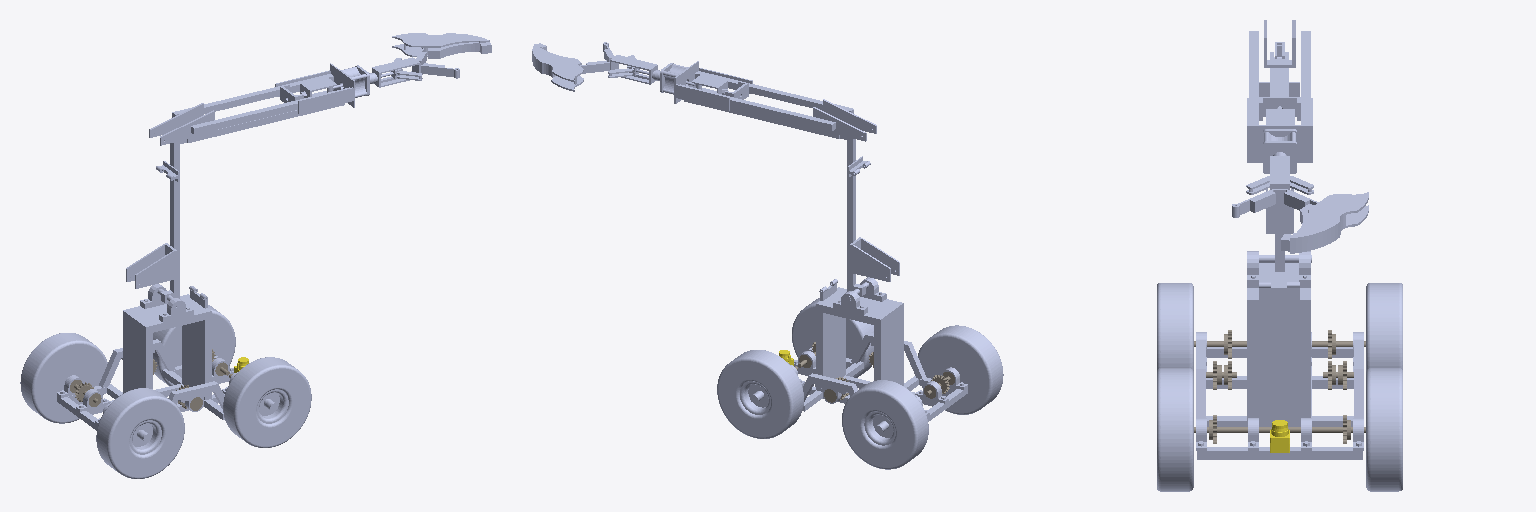
--- What the picture shows (computed from the rendered views, not written in the file) ---
3 views of the same robot in one strip: view 1: azimuth 30°, elevation 25°; view 2: azimuth 150°, elevation 25°; view 3: azimuth 270°, elevation 25° (orthographic).
Robot: Assem_fnl — 20 links, 19 joints (11 revolute, 1 prismatic, 7 fixed); root link base_link; default pose: all joints at 0.
Visible links, largest first — view 1: motorkooper_link, link_t2_2, link_t1_2, link_t2_1, struct_over_dual_link, base_link, rod_wth_cylin_link, dual_redrod_link, link_t1_1, claw_2_link, sub_claw_part_1_link, claw_part_2_2_link; view 2: motorkooper_link, link_t2_1, link_t1_1, link_t2_2, struct_over_dual_link, base_link, rod_wth_cylin_link, dual_redrod_link, link_t1_2, claw_2_link, sub_claw_part_1_link, claw_part_2_2_link; view 3: motorkooper_link, base_link, struct_over_dual_link, link_t1_2, link_t1_1, link_t2_1, link_t2_2, claw_2_link, rod_wth_cylin_link, sub_claw_part_1_link, dual_redrod_link, claw_part_2_2_link (+1 smaller).
Boxes of the visible links, <box> form: motorkooper_link: <box>123,284,211,399</box>; link_t2_2: <box>96,388,184,478</box>; link_t1_2: <box>223,357,311,447</box>; link_t2_1: <box>20,333,107,423</box>; struct_over_dual_link: <box>172,63,376,134</box>; base_link: <box>57,339,237,430</box>; rod_wth_cylin_link: <box>126,140,186,307</box>; dual_redrod_link: <box>149,103,344,145</box>; link_t1_1: <box>153,305,235,385</box>; claw_2_link: <box>392,33,491,58</box>; sub_claw_part_1_link: <box>372,48,459,87</box>; claw_part_2_2_link: <box>300,58,422,97</box>; motorkooper_link: <box>816,277,903,391</box>; link_t2_1: <box>842,380,928,469</box>; link_t1_1: <box>717,350,803,438</box>; link_t2_2: <box>918,325,1003,414</box>; struct_over_dual_link: <box>653,61,853,130</box>; base_link: <box>790,332,967,421</box>; rod_wth_cylin_link: <box>840,135,899,300</box>; dual_redrod_link: <box>684,99,876,141</box>; link_t1_2: <box>792,298,873,377</box>; claw_2_link: <box>532,43,583,91</box>; sub_claw_part_1_link: <box>580,42,657,84</box>; claw_part_2_2_link: <box>608,55,727,94</box>; motorkooper_link: <box>1247,251,1310,421</box>; base_link: <box>1196,332,1363,459</box>; struct_over_dual_link: <box>1247,31,1312,173</box>; link_t1_2: <box>1157,368,1193,491</box>; link_t1_1: <box>1366,368,1402,491</box>; link_t2_1: <box>1366,283,1402,370</box>; link_t2_2: <box>1157,283,1193,370</box>; claw_2_link: <box>1281,192,1368,253</box>; rod_wth_cylin_link: <box>1259,42,1311,271</box>; sub_claw_part_1_link: <box>1232,156,1318,217</box>; dual_redrod_link: <box>1264,20,1295,108</box>; claw_part_2_2_link: <box>1246,109,1313,194</box>.
Size in the robot's own frame: 1.67 by 0.6001 by 1.17 metres.
Meshes: 20 distinct files referenced, 19 mesh visuals loaded (19 binary STL); not drawn: 1 (reference not matched to a file when rendering).

robot.urdf — Assem_fnl:
<?xml version="1.0" encoding="utf-8"?>
<!-- This URDF was automatically created by SolidWorks to URDF Exporter! Originally created by Stephen Brawner ([email redacted])
     Commit Version: 1.6.0-1-g15f4949  Build Version: 1.6.7594.29634
     For more information, please see http://wiki.ros.org/sw_urdf_exporter -->
<robot
  name="Assem_fnl">

  <gazebo>
    <plugin name="gazebo_ros_control" filename="libgazebo_ros_control.so">
      <robotNamespace></robotNamespace>
      <robotSimType>gazebo_ros_control/DefaultRobotHWSim</robotSimType>
      <legacyModeNS>true</legacyModeNS>
    </plugin>
  </gazebo>
<!--
  <gazebo>
    <plugin name="MimicJointPlugin" filename="libroboticsgroup_gazebo_mimic_joint_plugin.so">
      <joint>claw_part_3_joint</joint>
      <mimicJoint>claw_1_joint</mimicJoint>
    </plugin>
  </gazebo>
-->
<!--
 <gazebo>
     <plugin name="Myrobot_ClosedLoopPlugin" filename="libpegasus_gazebo_closed_loop_plugin.so">
         <joint>plate_gripper_joint</joint>
         <child>claw_1_link</child>
         <parent>claw_part_3_link</parent>
         <position>0.0 0.0 0.0</position>
         <rotation>0.00 -0.00 0.00</rotation>
     </plugin>
 </gazebo>
-->

  <link
    name="base_link">
    <inertial>
      <origin
        xyz="0.000245228555021293 -0.000485601868001451 0.0326909146616174"
        rpy="0 0 0" />
      <mass
        value="50.6467934"/>
      <inertia
        ixx="0.487436962309936"
        ixy="-1.41855005569046E-05"
        ixz="0.000115722726747853"
        iyy="0.884389812574198"
        iyz="-0.000233043409626158"
        izz="1.30737819360333" />
    </inertial>
    <visual>
      <origin
        xyz="0 0 0"
        rpy="0 0 0" />
      <geometry>
        <mesh
          filename="package://Assem_fnl/meshes/visual/base_link.STL" />
      </geometry>
      <material
        name="">
        <color
          rgba="0.792156862745098 0.819607843137255 0.933333333333333 1" />
      </material>
    </visual>
    <collision>
      <origin
        xyz="0 0 0"
        rpy="0 0 0" />
      <geometry>
        <mesh
          filename="package://Assem_fnl/meshes/collision/base_link.stl" />
      </geometry>
    </collision>
  </link>
  <link
    name="link_sh1_1">
    <inertial>
      <origin
        xyz="3.60822483003176E-16 0.0266401832789713 2.77555756156289E-17"
        rpy="0 0 0" />
      <mass
        value="1.88910976344759" />
      <inertia
        ixx="0.00815057397058659"
        ixy="2.36548102133572E-17"
        ixz="0"
        iyy="0.00055983034329253"
        iyz="3.14474323677546E-18"
        izz="0.00815057397058659" />
    </inertial>
    <visual>
      <origin
        xyz="0 0 0"
        rpy="0 0 0" />
      <geometry>
        <mesh
          filename="package://Assem_fnl/meshes/visual/link_sh1_1.STL" />
      </geometry>
      <material
        name="">
        <color
          rgba="0.647058823529412 0.619607843137255 0.584313725490196 1" />
      </material>
    </visual>
    <collision>
      <origin
        xyz="0 0 0"
        rpy="0 0 0" />
      <geometry>
        <mesh
          filename="package://Assem_fnl/meshes/collision/link_sh1_1.stl" />
      </geometry>
    </collision>
  </link>
  <joint
    name="joint_sh1_1"
    type="revolute">
    <origin
      xyz="0.246 0.1631 0.053"
      rpy="0 0.61414 0" />
    <parent
      link="base_link" />
    <child
      link="link_sh1_1" />
    <axis
      xyz="0 1 0" />
    <limit
      lower="0"
      upper="6.283"
      effort="0"
      velocity="0" />
      <!-- forward +ve -->

  </joint>
  <link
    name="link_t1_1">
    <inertial>
      <origin
        xyz="0 -0.0437281587639727 3.46944695195361E-18"
        rpy="0 0 0" />
      <mass
        value="7" />
      <inertia
        ixx="0.90"
        ixy="0.97"
        ixz="0.78"
        iyx="0.97"
        iyy="2.19"
        iyz="0.42"
        izx="0.78"
        izy="0.42"
        izz="2.41" />
    </inertial>
    <visual>
      <origin
        xyz="0 0 0"
        rpy="0 0 0" />
      <geometry>
        <mesh
          filename="package://Assem_fnl/meshes/visual/link_t1_1.STL" />
      </geometry>
      <material
        name="">
        <color
          rgba="0.792156862745098 0.819607843137255 0.933333333333333 1" />
      </material>
    </visual>
    <collision>
      <origin
        xyz="0 0 0"
        rpy="0 0 0" />
      <geometry>
        <mesh
          filename="package://Assem_fnl/meshes/collision/link_t1_1.stl" />
      </geometry>
    </collision>
  </link>
  <joint
    name="joint_t1_1"
    type="fixed">
    <origin
      xyz="0 0.047 0"
      rpy="3.1416 -1.3284 0" />
    <parent
      link="link_sh1_1" />
    <child
      link="link_t1_1" />
    <axis
      xyz="0 0 0" />
    <limit
      lower="0"
      upper="0"
      effort="0"
      velocity="0" />
    <dynamics
      friction= "1000" />
  </joint>
  <link
    name="link_sh1_2">
    <inertial>
      <origin
        xyz="3.81639164714898E-16 0.0266401832789712 0"
        rpy="0 0 0" />
      <mass
        value="1.88910976344759" />
      <inertia
        ixx="0.00815057397058659"
        ixy="2.3314941049737E-17"
        ixz="0"
        iyy="0.00055983034329253"
        iyz="2.99631939640779E-18"
        izz="0.00815057397058659" />
    </inertial>
    <visual>
      <origin
        xyz="0 0 0"
        rpy="0 0 0" />
      <geometry>
        <mesh
          filename="package://Assem_fnl/meshes/visual/link_sh1_2.STL" />
      </geometry>
      <material
        name="">
        <color
          rgba="0.647058823529412 0.619607843137255 0.584313725490196 1" />
      </material>
    </visual>
    <collision>
      <origin
        xyz="0 0 0"
        rpy="0 0 0" />
      <geometry>
        <mesh
          filename="package://Assem_fnl/meshes/collision/link_sh1_2.stl" />
      </geometry>
    </collision>
  </link>
  <joint
    name="joint_sh1_2"
    type="revolute">
    <origin
      xyz="0.246 -0.163 0.053"
      rpy="0 -0.37309 3.1416" />
    <parent
      link="base_link" />
    <child
      link="link_sh1_2" />
    <axis
      xyz="0 1 0" />
    <limit
      lower="0"
      upper="6.283"
      effort="10"
      velocity="2" />
      <!--forward at negative -->
  </joint>
  <link
    name="link_t1_2">
    <inertial>
      <origin
        xyz="-6.93889390390723E-18 -0.0437281587639726 0"
        rpy="0 0 0" />
      <mass
        value="7" />
      <inertia
        ixx="1.01"
        ixy="0.01"
        ixz="0"
        iyx="0.01"
        iyy="0.21"
        iyz="0.00"
        izx="0"
        izy="0.00"
        izz="1.15" />
    </inertial>
    <visual>
      <origin
        xyz="0 0 0"
        rpy="0 0 0" />
      <geometry>
        <mesh
          filename="package://Assem_fnl/meshes/visual/link_t1_2.STL" />
      </geometry>
      <material
        name="">
        <color
          rgba="0.792156862745098 0.819607843137255 0.933333333333333 1" />
      </material>
    </visual>
    <collision>
      <origin
        xyz="0 0 0"
        rpy="0 0 0" />
      <geometry>
        <mesh
          filename="package://Assem_fnl/meshes/collision/link_t1_2.stl" />
      </geometry>
    </collision>
  </link>
  <joint
    name="joint_t1_2"
    type="fixed">
    <origin
      xyz="0 0.047 0"
      rpy="0 0.6334 3.1416" />
    <parent
      link="link_sh1_2" />
    <child
      link="link_t1_2" />
    <axis
      xyz="0 0 0" />
    <limit
      lower="0"
      upper="0"
      effort="0"
      velocity="0" />
    <dynamics
      friction ="1000" />
  </joint>
  <link
    name="link_sh2_1">
    <inertial>
      <origin
        xyz="4.44089209850063E-16 0.00429143099730334 -1.11022302462516E-16"
        rpy="0 0 0" />
      <mass
        value="1.91717027267991" />
      <inertia
        ixx="0.00832905389350432"
        ixy="-7.8383224326297E-19"
        ixz="0"
        iyy="0.00056061954511469"
        iyz="1.47358871394239E-19"
        izz="0.00832905389350432" />
    </inertial>
    <visual>
      <origin
        xyz="0 0 0"
        rpy="0 0 0" />
      <geometry>
        <mesh
          filename="package://Assem_fnl/meshes/visual/link_sh2_1.STL" />
      </geometry>
      <material
        name="">
        <color
          rgba="0.647058823529412 0.619607843137255 0.584313725490196 1" />
      </material>
    </visual>
    <collision>
      <origin
        xyz="0 0 0"
        rpy="0 0 0" />
      <geometry>
        <mesh
          filename="package://Assem_fnl/meshes/collision/link_sh2_1.stl" />
      </geometry>
    </collision>
  </link>
  <joint
    name="joint_sh2_1"
    type="revolute">
    <origin
      xyz="-0.246 0.127 0.053"
      rpy="3.1416 1.0385 3.1416" />
    <parent
      link="base_link" />
    <child
      link="link_sh2_1" />
    <axis
      xyz="0 1 0" />
    <limit
      lower="0"
      upper="6.283"
      effort="0"
      velocity="0" />

  </joint>
  <link
    name="link_t2_1">
    <inertial>
      <origin
        xyz="-1.11022302462516E-16 -0.0437281587639727 2.77555756156289E-17"
        rpy="0 0 0" />
      <mass
        value="7" />
      <inertia
        ixx="0.90"
        ixy="0.03"
        ixz="0.03"
        iyx="0.03"
        iyy="0.38"
        iyz="0.42"
        izx="0.03"
        izy="0.42"
        izz="0.60"  />
    </inertial>
    <visual>
      <origin
        xyz="0 0 0"
        rpy="0 0 0" />
      <geometry>
        <mesh
          filename="package://Assem_fnl/meshes/visual/link_t2_1.STL" />
      </geometry>
      <material
        name="">
        <color
          rgba="0.792156862745098 0.819607843137255 0.933333333333333 1" />
      </material>
    </visual>
    <collision>
      <origin
        xyz="0 0 0"
        rpy="0 0 0" />
      <geometry>
        <mesh
          filename="package://Assem_fnl/meshes/collision/link_t2_1.stl" />
      </geometry>
    </collision>
  </link>
  <joint
    name="joint_t2_1"
    type="fixed">
    <origin
      xyz="0 0.083 0"
      rpy="3.1416 -0.37818 0" />
    <parent
      link="link_sh2_1" />
    <child
      link="link_t2_1" />
    <axis
      xyz="0 0 0" />
    <limit
      lower="0"
      upper="0"
      effort="0"
      velocity="0" />
    <dynamics
      friction ="1000" />
  </joint>
  <link
    name="link_sh2_2">
    <inertial>
      <origin
        xyz="3.33066907387547E-16 0.00429143099730334 -5.55111512312578E-17"
        rpy="0 0 0" />
      <mass
        value="1.91717027267991" />
      <inertia
        ixx="0.00832905389350432"
        ixy="-1.02531408348597E-18"
        ixz="0"
        iyy="0.00056061954511469"
        iyz="-8.7774241875515E-22"
        izz="0.00832905389350432" />
    </inertial>
    <visual>
      <origin
        xyz="0 0 0"
        rpy="0 0 0" />
      <geometry>
        <mesh
          filename="package://Assem_fnl/meshes/visual/link_sh2_2.STL" />
      </geometry>
      <material
        name="">
        <color
          rgba="0.647058823529412 0.619607843137255 0.584313725490196 1" />
      </material>
    </visual>
    <collision>
      <origin
        xyz="0 0 0"
        rpy="0 0 0" />
      <geometry>
        <mesh
          filename="package://Assem_fnl/meshes/collision/link_sh2_2.stl" />
      </geometry>
    </collision>
  </link>
  <joint
    name="joint_sh2_2"
    type="revolute">
    <origin
      xyz="-0.246 -0.127 0.053"
      rpy="0 -0.080442 3.1416" />
    <parent
      link="base_link" />
    <child
      link="link_sh2_2" />
    <axis
      xyz="0 1 0" />
    <limit
      lower="0"
      upper="6.283"
      effort="0"
      velocity="0" />

  </joint>
  <link
    name="link_t2_2">
    <inertial>
      <origin
        xyz="-5.55111512312578E-17 -0.0437281587639727 -1.11022302462516E-16"
        rpy="0 0 0" />
      <mass
        value="7" />
      <inertia
        ixx="4.25"
        ixy="0.03"
        ixz="0.09"
        iyx="0.03"
        iyy="3.74"
        iyz="1.38"
        izx="0.09"
        izy="1.38"
        izz="0.60" />
    </inertial>
    <visual>
      <origin
        xyz="0 0 0"
        rpy="0 0 0" />
      <geometry>
        <mesh
          filename="package://Assem_fnl/meshes/visual/link_t2_2.STL" />
      </geometry>
      <material
        name="">
        <color
          rgba="0.792156862745098 0.819607843137255 0.933333333333333 1" />
      </material>
    </visual>
    <collision>
      <origin
        xyz="0 0 0"
        rpy="0 0 0" />
      <geometry>
        <mesh
          filename="package://Assem_fnl/meshes/collision/link_t2_2.stl" />
      </geometry>
    </collision>
  </link>
  <joint
    name="joint_t2_2"
    type="fixed">
    <origin
      xyz="0 0.083 0"
      rpy="0 -0.14131 3.1416" />
    <parent
      link="link_sh2_2" />
    <child
      link="link_t2_2" />
    <axis
      xyz="0 0 0" />
    <limit
      lower="0"
      upper="0"
      effort="0"
      velocity="0" />
    <dynamics
      friction ="1000" />

  </joint>
  <link
    name="link_Msh_1">
    <inertial>
      <origin
        xyz="-1.16573417585641E-15 -0.00188400148089063 -1.11022302462516E-16"
        rpy="0 0 0" />
      <mass
        value="1.28736459459753" />
      <inertia
        ixx="0.00141991589660242"
        ixy="2.07057765245373E-17"
        ixz="-1.62630325872826E-19"
        iyy="0.00045732350572063"
        iyz="2.53242925407615E-18"
        izz="0.00141991589660242" />
    </inertial>
    <visual>
      <origin
        xyz="0 0 0"
        rpy="0 0 0" />
      <geometry>
        <mesh
          filename="package://Assem_fnl/meshes/visual/link_Msh_1.STL" />
      </geometry>
      <material
        name="">
        <color
          rgba="0.647058823529412 0.619607843137255 0.584313725490196 1" />
      </material>
    </visual>
    <collision>
      <origin
        xyz="0 0 0"
        rpy="0 0 0" />
      <geometry>
        <mesh
          filename="package://Assem_fnl/meshes/collision/link_Msh_1.stl" />
      </geometry>
    </collision>
  </link>
  <joint
    name="joint_Msh_1"
    type="revolute">
    <origin
      xyz="0 0.152 0.085"
      rpy="3.1416 -0.48321 0" />
    <parent
      link="base_link" />
    <child
      link="link_Msh_1" />
    <axis
      xyz="0 1 0" />
    <limit
      lower="0"
      upper="0"
      effort="0"
      velocity="0" />
  </joint>
  <link
    name="link_Msh_2">
    <inertial>
      <origin
        xyz="-1.11022302462516E-15 -0.00188400148089063 -1.66533453693773E-16"
        rpy="0 0 0" />
      <mass
        value="1.28736459459753" />
      <inertia
        ixx="0.00141991589660242"
        ixy="2.07278499044851E-17"
        ixz="-1.52465930505774E-19"
        iyy="0.000457323505720631"
        iyz="2.57968883021634E-18"
        izz="0.00141991589660242" />
    </inertial>
    <visual>
      <origin
        xyz="0 0 0"
        rpy="0 0 0" />
      <geometry>
        <mesh
          filename="package://Assem_fnl/meshes/visual/link_Msh_2.STL" />
      </geometry>
      <material
        name="">
        <color
          rgba="0.647058823529412 0.619607843137255 0.584313725490196 1" />
      </material>
    </visual>
    <collision>
      <origin
        xyz="0 0 0"
        rpy="0 0 0" />
      <geometry>
        <mesh
          filename="package://Assem_fnl/meshes/collision/link_Msh_2.stl" />
      </geometry>
    </collision>
  </link>
  <joint
    name="joint_Msh_2"
    type="revolute">
    <origin
      xyz="0 -0.152 0.085"
      rpy="0 -0.02542 0" />
    <parent
      link="base_link" />
    <child
      link="link_Msh_2" />
    <axis
      xyz="0 1 0" />
    <limit
      lower="0"
      upper="0"
      effort="0"
      velocity="0" />
  </joint>
  <link
  name="motorkooper_link">
  <inertial>
    <origin
      xyz="-0.00120545300454244 -0.000461143822939658 0.233638316473452"
      rpy="0 0 0" />
    <mass
      value="17.38"  />
    <inertia
      ixx="1.01"
      ixy="0.01"
      ixz="0.00"
      iyx="0.01"
      iyy="0.21"
      iyz="0.00"
      izz="1.15" />
  </inertial>
  <visual>
    <origin
      xyz="0 0 0"
      rpy="0 0 0" />
    <geometry>
      <mesh
        filename="package://Assem_fnl/meshes/visual/motorkooper_link.STL" />
    </geometry>
    <material
      name="">
      <color
        rgba="0.792156862745098 0.819607843137255 0.933333333333333 1" />
    </material>
  </visual>
  <collision>
    <origin
      xyz="0 0 0"
      rpy="0 0 0" />
    <geometry>
      <mesh
        filename="package://Assem_fnl/meshes/collision/motorkooper_link.stl" />
    </geometry>
  </collision>
</link>
<joint
  name="motorkooper_joint"
  type="fixed">
  <origin
    xyz="-0.26 0.47 -0.22"
    rpy="1.5707 0 0" />
  <parent
    link="base_link" />
  <child
    link="motorkooper_link" />
  <axis
    xyz="0 0 0" />
  </joint>
  <link
    name="rod_wth_cylin_link">
    <inertial>
      <origin
        xyz="-0.0244108175794428 -0.012 0.159055527397006"
        rpy="0 0 0" />
      <mass
        value="4.71123767266371" />
      <inertia
        ixx="0.151060078726739"
        ixy="3.46732936958548E-18"
        ixz="-0.0154520234909176"
        iyy="0.15770726800881"
        iyz="5.13063738019691E-18"
        izz="0.0119981780843595" />
    </inertial>
    <visual>
      <origin
        xyz="0 0 0"
        rpy="0 0 0" />
      <geometry>
        <mesh
          filename="package://Assem_fnl/meshes/visual/rod_wth_cylin_link.STL" />
      </geometry>
      <material
        name="">
        <color
          rgba="0.792156862745098 0.819607843137255 0.933333333333333 1" />
      </material>
    </visual>
    <collision>
      <origin
        xyz="0 0 0"
        rpy="0 0 0" />
      <geometry>
        <mesh
          filename="package://Assem_fnl/meshes/collision/rod_wth_cylin_link.stl" />
      </geometry>
    </collision>
  </link>
  <joint
    name="rod_wth_cylin_joint"
    type="revolute">
    <origin
      xyz="0.264 0.618 0.469"
      rpy="-1.5707 0 0" />
    <parent
      link="motorkooper_link" />
    <child
      link="rod_wth_cylin_link" />
    <axis
      xyz="0 -1 0" />
    <limit
      lower="-1.5707"
      upper="0"
      effort="450"
      velocity="5" />
    <dynamics
      friction="100"
      damping="10" />
  </joint>
  <link
    name="dual_redrod_link">
    <inertial>
      <origin
        xyz="-0.285925121637021 0.00708701348815782 0.000547426734640588"
        rpy="0 0 0" />
      <mass
        value="4.96083086557093" />
      <inertia
        ixx="0.00516246254163912"
        ixy="5.51906715867348E-06"
        ixz="0.0123762688360278"
        iyy="0.205745932268244"
        iyz="-7.65215364696908E-07"
        izz="0.205914461908583" />
    </inertial>
    <visual>
      <origin
        xyz="0 0 0"
        rpy="0 0 0" />
      <geometry>
        <mesh
          filename="package://Assem_fnl/meshes/visual/dual_redrod_link.STL" />
      </geometry>
      <material
        name="">
        <color
          rgba="0.792156862745098 0.819607843137255 0.933333333333333 1" />
      </material>
    </visual>
    <collision>
      <origin
        xyz="0 0 0"
        rpy="0 0 0" />
      <geometry>
        <mesh
          filename="package://Assem_fnl/meshes/collision/dual_redrod_link.stl" />
      </geometry>
    </collision>
  </link>
  <joint
    name="dual_redrod_joint"
    type="revolute">
    <origin
      xyz="0.083 -0.003 0.576"
      rpy="0 0 0" />
    <parent
      link="rod_wth_cylin_link" />
    <child
      link="dual_redrod_link" />
    <axis
      xyz="0 1 0" />
    <limit
      lower="-1.5707"
      upper="0.872"
      effort="450"
      velocity="50" />
    <dynamics
      friction="100"
      damping ="10" />
  </joint>
  <link
    name="struct_over_dual_link">
    <inertial>
      <origin
        xyz="-0.12660154538717 -0.0749819442965102 -0.0130685587306965"
        rpy="0 0 0" />
      <mass
        value="10.5541936012649" />
      <inertia
        ixx="0.034593017975491"
        ixy="-4.12202992454498E-05"
        ixz="0.00203404927446369"
        iyy="0.446025462173523"
        iyz="3.23643700805756E-06"
        izz="0.475530168467849" />
    </inertial>
    <visual>
      <origin
        xyz="0 0 0"
        rpy="0 0 0" />
      <geometry>
        <mesh
          filename="package://Assem_fnl/meshes/visual/struct_over_dual_link.STL" />
      </geometry>
      <material
        name="">
        <color
          rgba="0.792156862745098 0.819607843137255 0.933333333333333 1" />
      </material>
    </visual>
    <collision>
      <origin
        xyz="0 0 0"
        rpy="0 0 0" />
      <geometry>
        <mesh
          filename="package://Assem_fnl/meshes/collision/struct_over_dual_link.stl" />
      </geometry>
    </collision>
  </link>
  <joint
    name="struct_over_dual_joint"
    type="fixed">
    <origin
      xyz="0.55 0.077 0.064"
      rpy="0 0 0" />
    <parent
      link="dual_redrod_link" />
    <child
      link="struct_over_dual_link" />
    <axis
      xyz="0 0 0" />
  </joint>

  <link
    name="sub_claw_part_1_link">
    <inertial>
      <origin
        xyz="-0.120154614612147 0.106923881554251 0.0149999999999999"
        rpy="0 0 0" />
      <mass
        value="2.2286648229313" />
      <inertia
        ixx="0.00474450554529489"
        ixy="-9.64460830501308E-18"
        ixz="-8.27206601008833E-18"
        iyy="0.0176232139105464"
        iyz="1.61353159007044E-18"
        izz="0.0211883448190484" />
    </inertial>
    <visual>
      <origin
        xyz="0 0 0"
        rpy="0 0 0" />
      <geometry>
        <mesh
          filename="package://Assem_fnl/meshes/visual/sub_claw_part_1_link.STL" />
      </geometry>
      <material
        name="">
        <color
          rgba="0.792156862745098 0.819607843137255 0.933333333333333 1" />
      </material>
    </visual>
    <collision>
      <origin
        xyz="0 0 0"
        rpy="0 0 0" />
      <geometry>
        <mesh
          filename="package://Assem_fnl/meshes/collision/sub_claw_part_1_link.stl" />
      </geometry>
    </collision>
  </link>
  <joint
    name="sub_claw_part_1_joint"
    type="revolute">
    <origin
      xyz="0.2715 -0.075 -0.015"
      rpy="0 0 0" />
    <parent
      link="struct_over_dual_link" />
    <child
      link="sub_claw_part_1_link" />
    <axis
      xyz="1 0 0" />
    <limit
      lower="0"
      upper="6.283"
      effort="10"
      velocity="2" />
  </joint>

  <link
  name="claw_part_2_2_link">
  <inertial>
    <origin
      xyz="-0.177150603741962 -0.0149999049377803 -1.14911758997138E-07"
      rpy="0 0 0" />
    <mass
      value="1.48172924497085" />
    <inertia
      ixx="0.00149362963443841"
      ixy="1.84684922214377E-08"
      ixz="-2.69312585031865E-08"
      iyy="0.0349934185815546"
      iyz="-2.37436554810784E-09"
      izz="0.0356299058432863" />
  </inertial>
  <visual>
    <origin
      xyz="0 0 0"
      rpy="0 0 0" />
    <geometry>
      <mesh
        filename="package://Assem_fnl/meshes/visual/claw_part_2_2_link.STL" />
    </geometry>
    <material
      name="">
      <color
        rgba="0.792156862745098 0.819607843137255 0.933333333333333 1" />
    </material>
  </visual>
  <collision>
    <origin
      xyz="0 0 0"
      rpy="0 0 0" />
    <geometry>
      <mesh
        filename="package://Assem_fnl/meshes/collision/claw_part_2_2_link.stl" />
    </geometry>
  </collision>
</link>
<joint
  name="claw_part_2_2_joint"
  type="prismatic">
  <origin
    xyz="-0.013 0 0"
    rpy="0 0 0" />
  <parent
    link="sub_claw_part_1_link" />
  <child
    link="claw_part_2_2_link" />
  <axis
    xyz="1 0 0" />
  <limit
    lower="-0.05"
    upper="0.05"
    effort="0"
    velocity="0" />
</joint>

  <link
  name="claw_1_link">
  <inertial>
    <origin
      xyz="-0.0685036800834815 0.0410807887941437 0.0149999999999997"
      rpy="0 0 0" />
    <mass
      value="3.76611840248057" />
    <inertia
      ixx="0.00648721569485819"
      ixy="-0.00484931338159159"
      ixz="-9.05152921499203E-18"
      iyy="0.027371208605494"
      iyz="-4.27670905535636E-18"
      izz="0.0319709511637982" />
  </inertial>
  <visual>
    <origin
      xyz="0 0 0"
      rpy="0 0 0" />
    <geometry>
      <mesh
        filename="package://Assem_fnl/meshes/visual/claw_1_link.STL" />
    </geometry>
    <material
      name="">
      <color
        rgba="0.792156862745098 0.819607843137255 0.933333333333333 1" />
    </material>
  </visual>
  <collision>
    <origin
      xyz="0 0 0"
      rpy="0 0 0" />
    <geometry>
      <mesh
        filename="package://Assem_fnl/meshes/collision/claw_1_link.stl" />
    </geometry>
  </collision>
</link>
<joint
  name="claw_1_joint"
  type="revolute">
  <origin
    xyz="0.158 -0.1065 0"
    rpy="0 0 0.261" />
  <parent
    link="sub_claw_part_1_link" />
  <child
    link="claw_1_link" />
  <axis
    xyz="0 0 1" />
  <limit
    lower="-0.29"
    upper="0"
    effort="10"
    velocity="5" />
    <!-- lower minus -->
</joint>


<link
name="claw_2_link">
<inertial>
  <origin
    xyz="-0.0685036800834813 0.0410807887941437 0.0149999999999999"
    rpy="0 0 0" />
  <mass
    value="3.76611840248056" />
  <inertia
    ixx="0.00648721569485816"
    ixy="-0.0048493133815916"
    ixz="-4.07757245731701E-18"
    iyy="0.027371208605494"
    iyz="-6.67090062032985E-18"
    izz="0.0319709511637982" />
</inertial>
<visual>
  <origin
    xyz="0 0 0"
    rpy="0 0 0" />
  <geometry>
    <mesh
      filename="package://Assem_fnl/meshes/visual/claw_2_link.STL" />
  </geometry>
  <material
    name="">
    <color
      rgba="0.792156862745098 0.819607843137255 0.933333333333333 1" />
  </material>
</visual>
<collision>
  <origin
    xyz="0 0 0"
    rpy="0 0 0" />
  <geometry>
    <mesh
      filename="package://Assem_fnl/meshes/collision/claw_2_link.stl" />
  </geometry>
</collision>
</link>
<joint
name="claw_2_joint"
type="revolute">
<origin
  xyz="0.158 0.1065 0"
  rpy="3.14 0 -0.261" />
<parent
  link="sub_claw_part_1_link" />
<child
  link="claw_2_link" />
<axis
  xyz="0 0 1" />
<limit
  lower="-0.29"
  upper="0"
  effort="10"
  velocity="5" />
</joint>

<!-- ################################################# PROPERTIES ############################################### -->
<gazebo reference="claw_1_link">
  <kp>100000.0</kp>
  <kd>1.0</kd>
  <mu1>10000.0</mu1>
  <mu2>10000</mu2>
  <fdir1>1 0 0</fdir1>
  <minDepth>0.01</minDepth>
</gazebo>

<gazebo reference="claw_2_link">
  <kp>100000.0</kp>
  <kd>1.0</kd>
  <mu1>20000.0</mu1>
  <mu2>20000</mu2>
  <fdir1>1 0 0</fdir1>
  <minDepth>0.01</minDepth>
</gazebo>

<gazebo reference="link_t1_1">
  <mu1>30000.0</mu1>
  <mu2>30000</mu2>
  <fdir1>0 1 0</fdir1>
  <minDepth>0.02</minDepth>
</gazebo>

<gazebo reference="link_t1_2">
  <mu1>30000.0</mu1>
  <mu2>30000</mu2>
  <fdir1>0 1 0</fdir1>
  <minDepth>0.02</minDepth>
</gazebo>

<gazebo reference="link_t2_1">
  <mu1>30000.0</mu1>
  <mu2>30000</mu2>
  <fdir1>0 1 0</fdir1>
  <minDepth>0.02</minDepth>
</gazebo>

<gazebo reference="link_t2_2">
  <mu1>30000.0</mu1>
  <mu2>30000</mu2>
  <fdir1>0 1 0</fdir1>
  <minDepth>0.02</minDepth>
</gazebo>

<gazebo>
  <gripper name="grasping">
    <grasp_check>
        <attach_steps>5</attach_steps>
        <detach_steps>10</detach_steps>
        <min_contact_count>1</min_contact_count>
    </grasp_check>
    <gripper_link>claw_1_link</gripper_link>
    <palm_link>claw_2_link</palm_link>
  </gripper>
</gazebo>
<!--########################################## SENSORS ###################################-->

  <!-- Hokuyo Laser -->
  <link name="hokuyo">
    <collision>
      <origin xyz="0 0 0" rpy="0 0 0"/>
      <geometry>
    <box size="0.1 0.1 0.1"/>
      </geometry>
    </collision>

    <visual>
      <origin xyz="0 0 0" rpy="0 0 0"/>
      <geometry>
        <mesh filename="package://Assem_fnl/meshes/visual/hokuyo.stl"/>
      </geometry>
    </visual>

    <inertial>
      <mass value="1e-5" />
      <origin xyz="0 0 0" rpy="0 0 0"/>
      <inertia ixx="1e-6" ixy="0" ixz="0" iyy="1e-6" iyz="0" izz="1e-6" />
    </inertial>
  </link>

    <joint name="hokuyo_joint" type="fixed">
      <axis xyz="0 1 0" />
      <origin xyz="0.3 0 0.062" rpy="0 0 0"/>
      <parent link="base_link"/>
      <child link="hokuyo"/>
    </joint>


  <!-- hokuyo -->
  <gazebo reference="hokuyo">
    <sensor type="ray" name="head_hokuyo_sensor">
      <pose>0 0 0 0 0 0</pose>
      <visualize>true</visualize>
      <update_rate>40</update_rate>
      <ray>
        <scan>
          <horizontal>
            <samples>720</samples>
            <resolution>1</resolution>
            <min_angle>-1.570796</min_angle>
            <max_angle>1.570796</max_angle>
          </horizontal>
        </scan>
        <range>
          <min>0.10</min>
          <max>30.0</max>
          <resolution>0.01</resolution>
        </range>
        <noise>
          <type>gaussian</type>
          <!-- Noise parameters based on published spec for Hokuyo laser
               achieving "+-30mm" accuracy at range < 10m.  A mean of 0.0m and
               stddev of 0.01m will put 99.7% of samples within 0.03m of the true
               reading. -->
          <mean>0.0</mean>
          <stddev>0.01</stddev>
        </noise>
      </ray>
      <plugin name="gazebo_ros_head_hokuyo_controller" filename="libgazebo_ros_laser.so">
        <topicName>/mybot/laser/scan</topicName>
        <frameName>hokuyo</frameName>
      </plugin>
    </sensor>
  </gazebo>


<!--
<link
name="Dummy_plate_link">
<inertial>
  <origin
    xyz="-0.0685036800834816 0.0410807887941436 0.0149999999999999"
    rpy="0 0 0" />
  <mass
    value="1" />
  <inertia
    ixx="0.000821166543652936"
    ixy="-0.000613837136910328"
    ixz="-2.35325594742188E-19"
    iyy="0.00346470995006253"
    iyz="-2.01046247881013E-19"
    izz="0.00404695584351876" />
</inertial>
<visual>
  <origin
    xyz="0 0 0"
    rpy="0 0 0" />
  <geometry>
    <mesh
      filename="package://Assem_fnl/meshes/Dummy_plate_link.STL" />
  </geometry>
  <material
    name="">
    <color
      rgba="0.792156862745098 0.819607843137255 0.933333333333333 1" />
  </material>
</visual>
<collision>
  <origin
    xyz="0 0 0"
    rpy="0 0 0" />
  <geometry>
    <mesh
      filename="package://Assem_fnl/meshes/Dummy_plate_link.STL" />
  </geometry>
</collision>
</link>
<joint
name="Dummy_plate_joint"
type="fixed">
<origin
  xyz="0 0 0"
  rpy="0 0 0" />
<parent
  link="claw_part_3_2_link" />
<child
  link="Dummy_plate_link" />
<axis
  xyz="0 0 1" />
<limit
  lower="0"
  upper="0"
  effort="1000"
  velocity="2" />
</joint>
-->
<!--
<gazebo reference="">
  <friction>3</friction>
  <friction2>3</friction2>
  <kp>100000</kp>
  <kd>10000</kd>
  <dampingFactor>6</dampingFactor>
</gazebo>
-->
<!--
<gazebo>
        <joint name='plate_gripper_joint' type='revolute'>
            <child>claw_1_link</child>
            <parent>claw_part_3_link</parent>
            <pose>-0.055 -0.0525 0
              0 0 0 </pose>
            <axis>
                <xyz>0 0 0</xyz>
                <limit>
                  <lower>-3</lower>
                    <upper>3</upper>
                    <effort>1</effort>
                    <velocity>10</velocity>
                </limit>
                <dynamics>
                    <damping>10</damping>
                    <friction>10</friction>
                    <spring_reference>0</spring_reference>
                    <spring_stiffness>0</spring_stiffness>
                </dynamics>
                <use_parent_model_frame>1</use_parent_model_frame>
            </axis>
        </joint>
  </gazebo>

  <gazebo>
          <joint name='plate2_gripper2_joint' type='revolute'>
              <child>claw_2_link</child>
              <parent>claw_part_3_2_link</parent>
              <pose>-0.055 -0.0525 0
                0 0 0</pose>
              <axis>
                  <xyz>0 0 0</xyz>
                  <limit>
                      <lower>3</lower>
                      <upper>-3</upper>
                      <effort>1</effort>
                      <velocity>10</velocity>
                  </limit>
                  <dynamics>
                      <damping>10</damping>
                      <friction>10</friction>
                      <spring_reference>0</spring_reference>
                      <spring_stiffness>0</spring_stiffness>
                  </dynamics>
                  <use_parent_model_frame>1</use_parent_model_frame>
              </axis>
          </joint>
    </gazebo>
-->



  <transmission name="T1">
  <type>transmission_interface/SimpleTransmission</type>
  <joint name="joint_sh1_1">
    <hardwareInterface>hardware_interface/EffortJointInterface</hardwareInterface>
  </joint>
  <actuator name="M1">
    <hardwareInterface>hardware_interface/EffortJointInterface</hardwareInterface>
    <mechanicalReduction>1</mechanicalReduction>
  </actuator>
</transmission>

<transmission name="T2">
<type>transmission_interface/SimpleTransmission</type>
<joint name="joint_sh1_2">
  <hardwareInterface>hardware_interface/EffortJointInterface</hardwareInterface>
</joint>
<actuator name="M2">
  <hardwareInterface>hardware_interface/EffortJointInterface</hardwareInterface>
  <mechanicalReduction>1</mechanicalReduction>
</actuator>
</transmission>

<transmission name="T3">
<type>transmission_interface/SimpleTransmission</type>
<joint name="joint_sh2_1">
  <hardwareInterface>hardware_interface/EffortJointInterface</hardwareInterface>
</joint>
<actuator name="M3">
  <hardwareInterface>hardware_interface/EffortJointInterface</hardwareInterface>
  <mechanicalReduction>1</mechanicalReduction>
</actuator>
</transmission>

<transmission name="T4">
<type>transmission_interface/SimpleTransmission</type>
<joint name="joint_sh2_2">
  <hardwareInterface>hardware_interface/EffortJointInterface</hardwareInterface>
</joint>
<actuator name="M4">
  <hardwareInterface>hardware_interface/EffortJointInterface</hardwareInterface>
  <mechanicalReduction>1</mechanicalReduction>
</actuator>
</transmission>

<transmission name="T5">
<type>transmission_interface/SimpleTransmission</type>
<joint name="rod_wth_cylin_joint">
  <hardwareInterface>hardware_interface/EffortJointInterface</hardwareInterface>
</joint>
<actuator name="M5">
  <hardwareInterface>hardware_interface/EffortJointInterface</hardwareInterface>
  <mechanicalReduction>1</mechanicalReduction>
</actuator>
</transmission>

<transmission name="T6">
<type>transmission_interface/SimpleTransmission</type>
<joint name="dual_redrod_joint">
  <hardwareInterface>hardware_interface/EffortJointInterface</hardwareInterface>
</joint>
<actuator name="M6">
  <hardwareInterface>hardware_interface/EffortJointInterface</hardwareInterface>
  <mechanicalReduction>1</mechanicalReduction>
</actuator>
</transmission>

<transmission name="T7">
<type>transmission_interface/SimpleTransmission</type>
<joint name="sub_claw_part_1_joint">
  <hardwareInterface>hardware_interface/EffortJointInterface</hardwareInterface>
</joint>
<actuator name="M7">
  <hardwareInterface>hardware_interface/EffortJointInterface</hardwareInterface>
  <mechanicalReduction>1</mechanicalReduction>
</actuator>
</transmission>


<transmission name="T8">
<type>transmission_interface/SimpleTransmission</type>
<joint name="claw_2_joint">
  <hardwareInterface>hardware_interface/EffortJointInterface</hardwareInterface>
</joint>
<actuator name="M8">
  <hardwareInterface>hardware_interface/EffortJointInterface</hardwareInterface>
  <mechanicalReduction>1</mechanicalReduction>
</actuator>
</transmission>


<transmission name="T9">
<type>transmission_interface/SimpleTransmission</type>
<joint name="claw_1_joint">
  <hardwareInterface>hardware_interface/EffortJointInterface</hardwareInterface>
</joint>
<actuator name="M9">
  <hardwareInterface>hardware_interface/EffortJointInterface</hardwareInterface>
  <mechanicalReduction>1</mechanicalReduction>
</actuator>
</transmission>



</robot>
